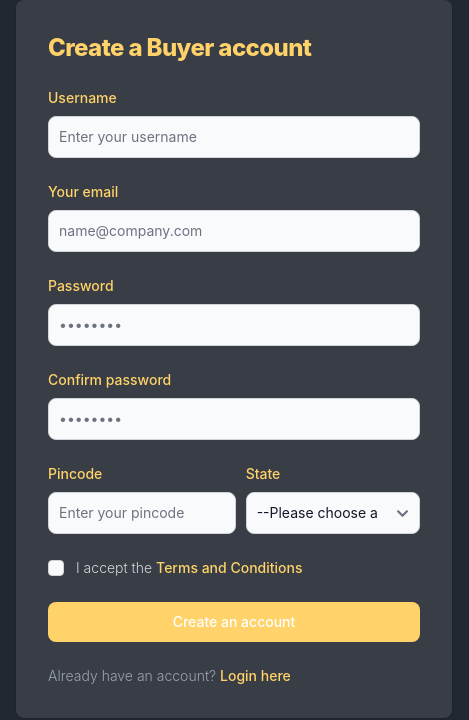
it: SignupBuyer Component › shows validation error for mismatched passwords
The width and height of the screenshot is (469, 720).
Type "Test@123" into the password field labelled "Password" at coordinates (234, 325), box x1=48 y1=304 x2=420 y2=346
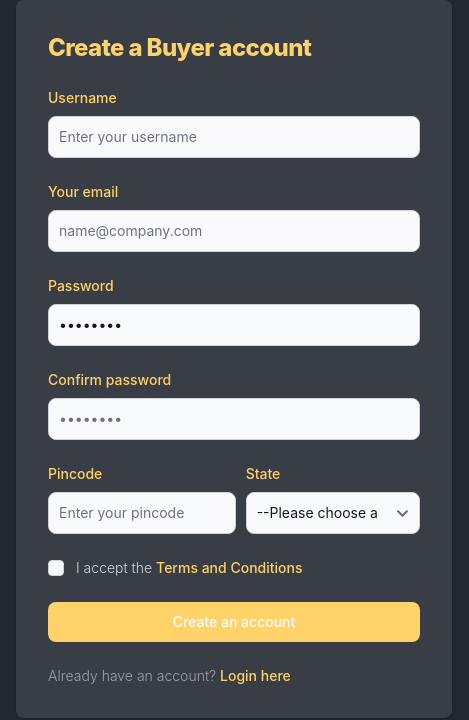
Type "Mismatch123" into the password field labelled "Confirm password" at coordinates (234, 419), box x1=48 y1=398 x2=420 y2=440
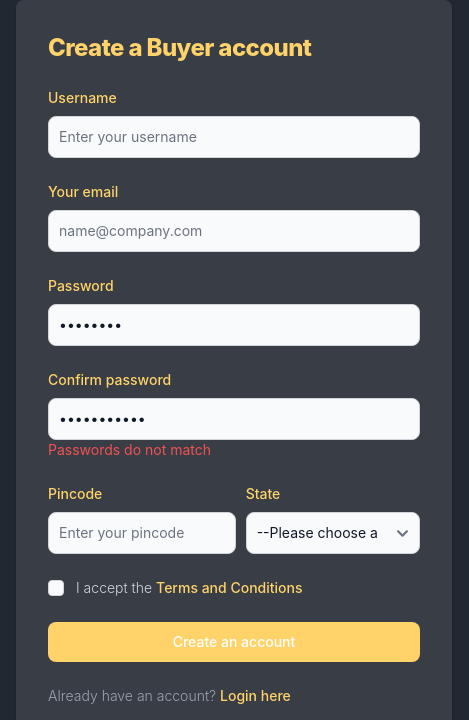
Check: the text "Passwords do not match" is shown, box x1=48 y1=441 x2=211 y2=458
